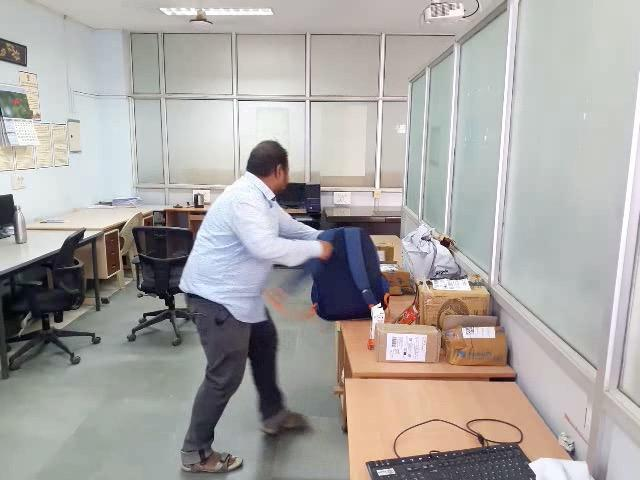shoplifting: (186, 201, 506, 366)
